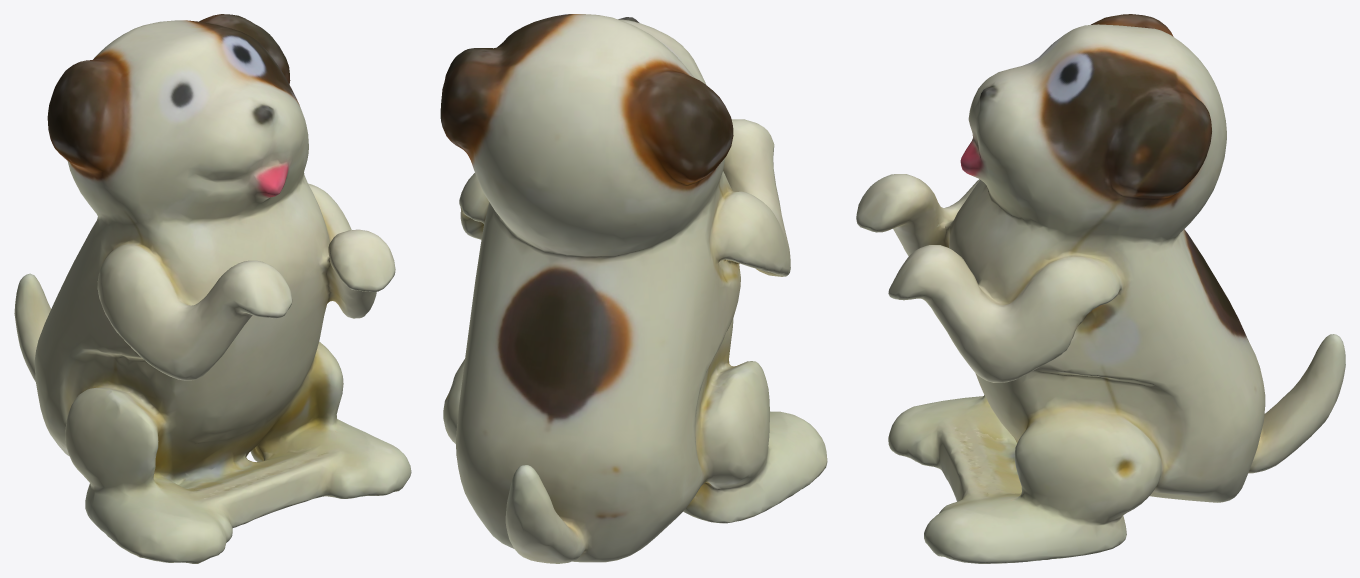
Rendered from Toysmith_Windem_Up_Flippin_Animals_Dog.glb.
3 renders of one model, left to right at view 1: azimuth 30°, elevation 25°; view 2: azimuth 150°, elevation 25°; view 3: azimuth 270°, elevation 25°, orthographic. The views are drawn at different scales.
Parts seen in each view (by area): view 1: Toysmith_Windem_Up_Flippin_Animals_Dog; view 2: Toysmith_Windem_Up_Flippin_Animals_Dog; view 3: Toysmith_Windem_Up_Flippin_Animals_Dog.
Part boxes in pixels (box(x1,y1,x2,y2)): Toysmith_Windem_Up_Flippin_Animals_Dog: box(14, 14, 411, 563); Toysmith_Windem_Up_Flippin_Animals_Dog: box(440, 14, 827, 563); Toysmith_Windem_Up_Flippin_Animals_Dog: box(856, 14, 1345, 563).
Bounding box in the file's own units: 0.0348 × 0.0499 × 0.0484.
1 material, 1 textured.
